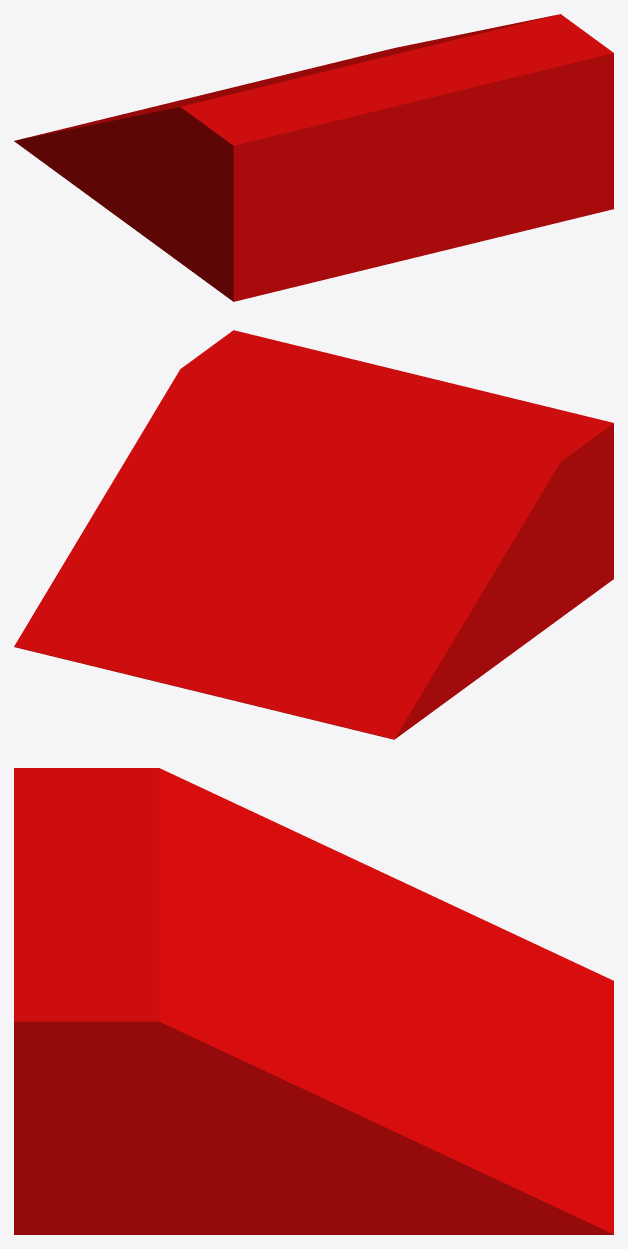
The model's file is rampa.fbx.
3 views of the same model, one above another, from view 1: azimuth 30°, elevation 25°; view 2: azimuth 150°, elevation 25°; view 3: azimuth 270°, elevation 25° (orthographic). The views are drawn at different scales.
Visible parts, largest first — view 1: Cubo.001; view 2: Cubo.001; view 3: Cubo.001.
Boxes of the visible parts, left/top/right/bottom form: Cubo.001: left=14, top=14, right=613, bottom=301; Cubo.001: left=14, top=330, right=613, bottom=739; Cubo.001: left=14, top=768, right=613, bottom=1234.
Bounding box in the file's own units: 4080 × 1600 × 4080.
